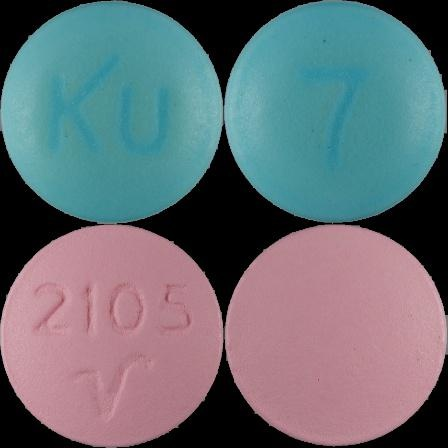63187-259: (0, 0, 224, 224)
